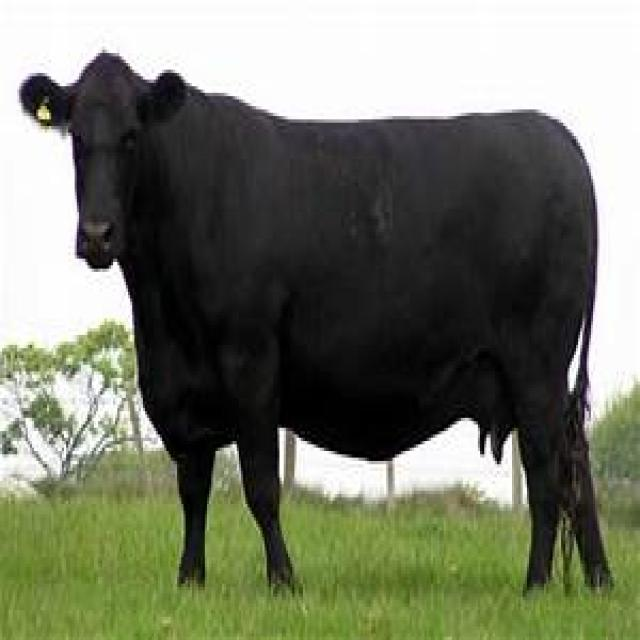cow: (21, 52, 609, 587)
